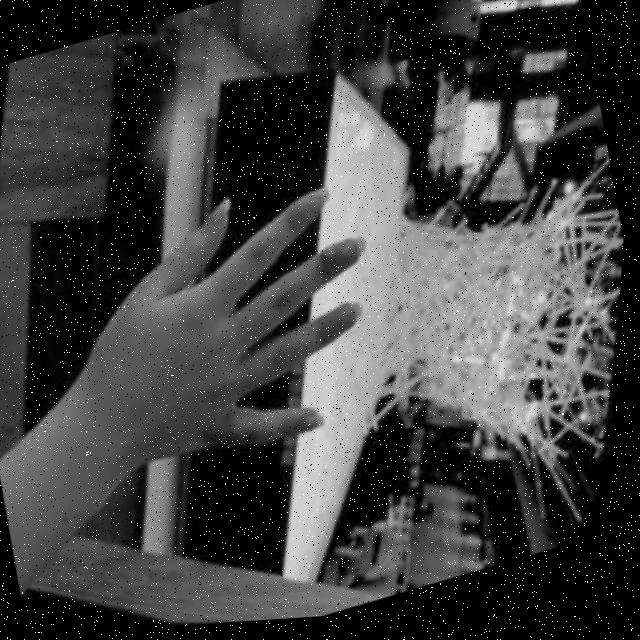hand: (70, 160, 418, 492)
